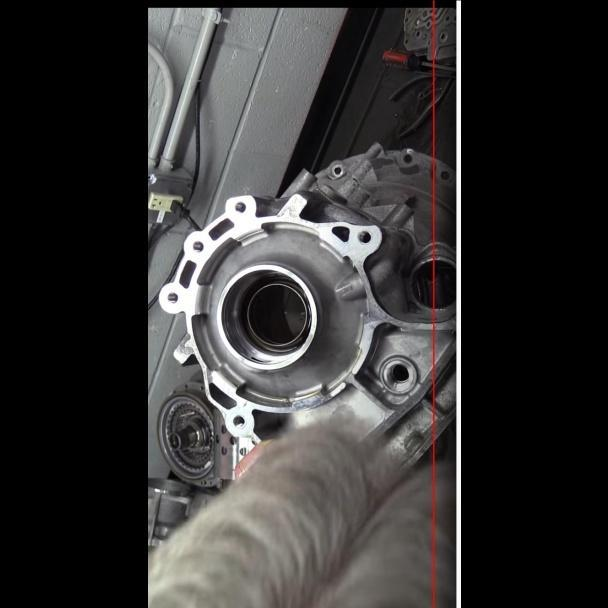hole: (356, 228, 372, 243), (231, 413, 247, 428), (165, 289, 179, 305), (233, 200, 247, 213), (190, 239, 203, 252)
